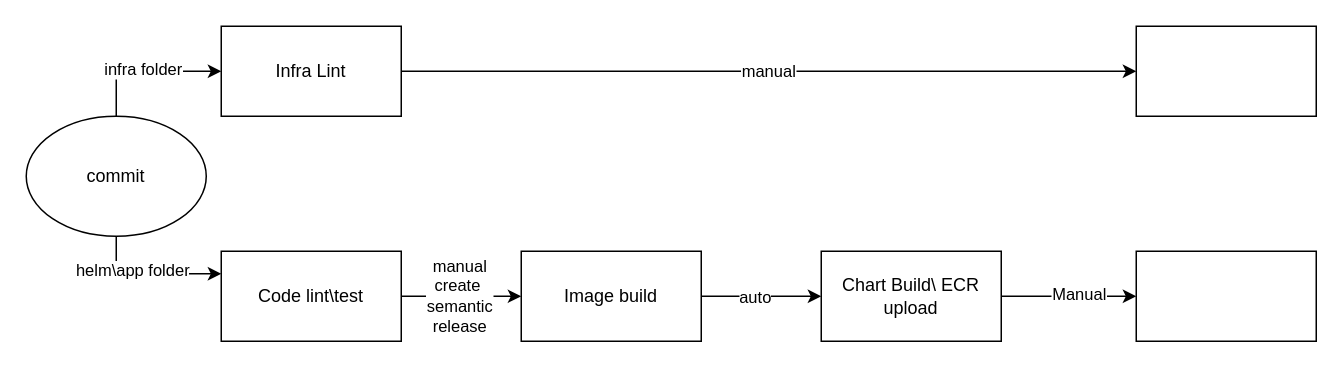
The diagram is 1343 pixels wide and 368 high, and some of its shapes have lost their labels. Each missing label, with the box of its shape:
Chart deploy: (1135, 250, 1316, 341)
Infra deploy: (1135, 25, 1316, 116)
